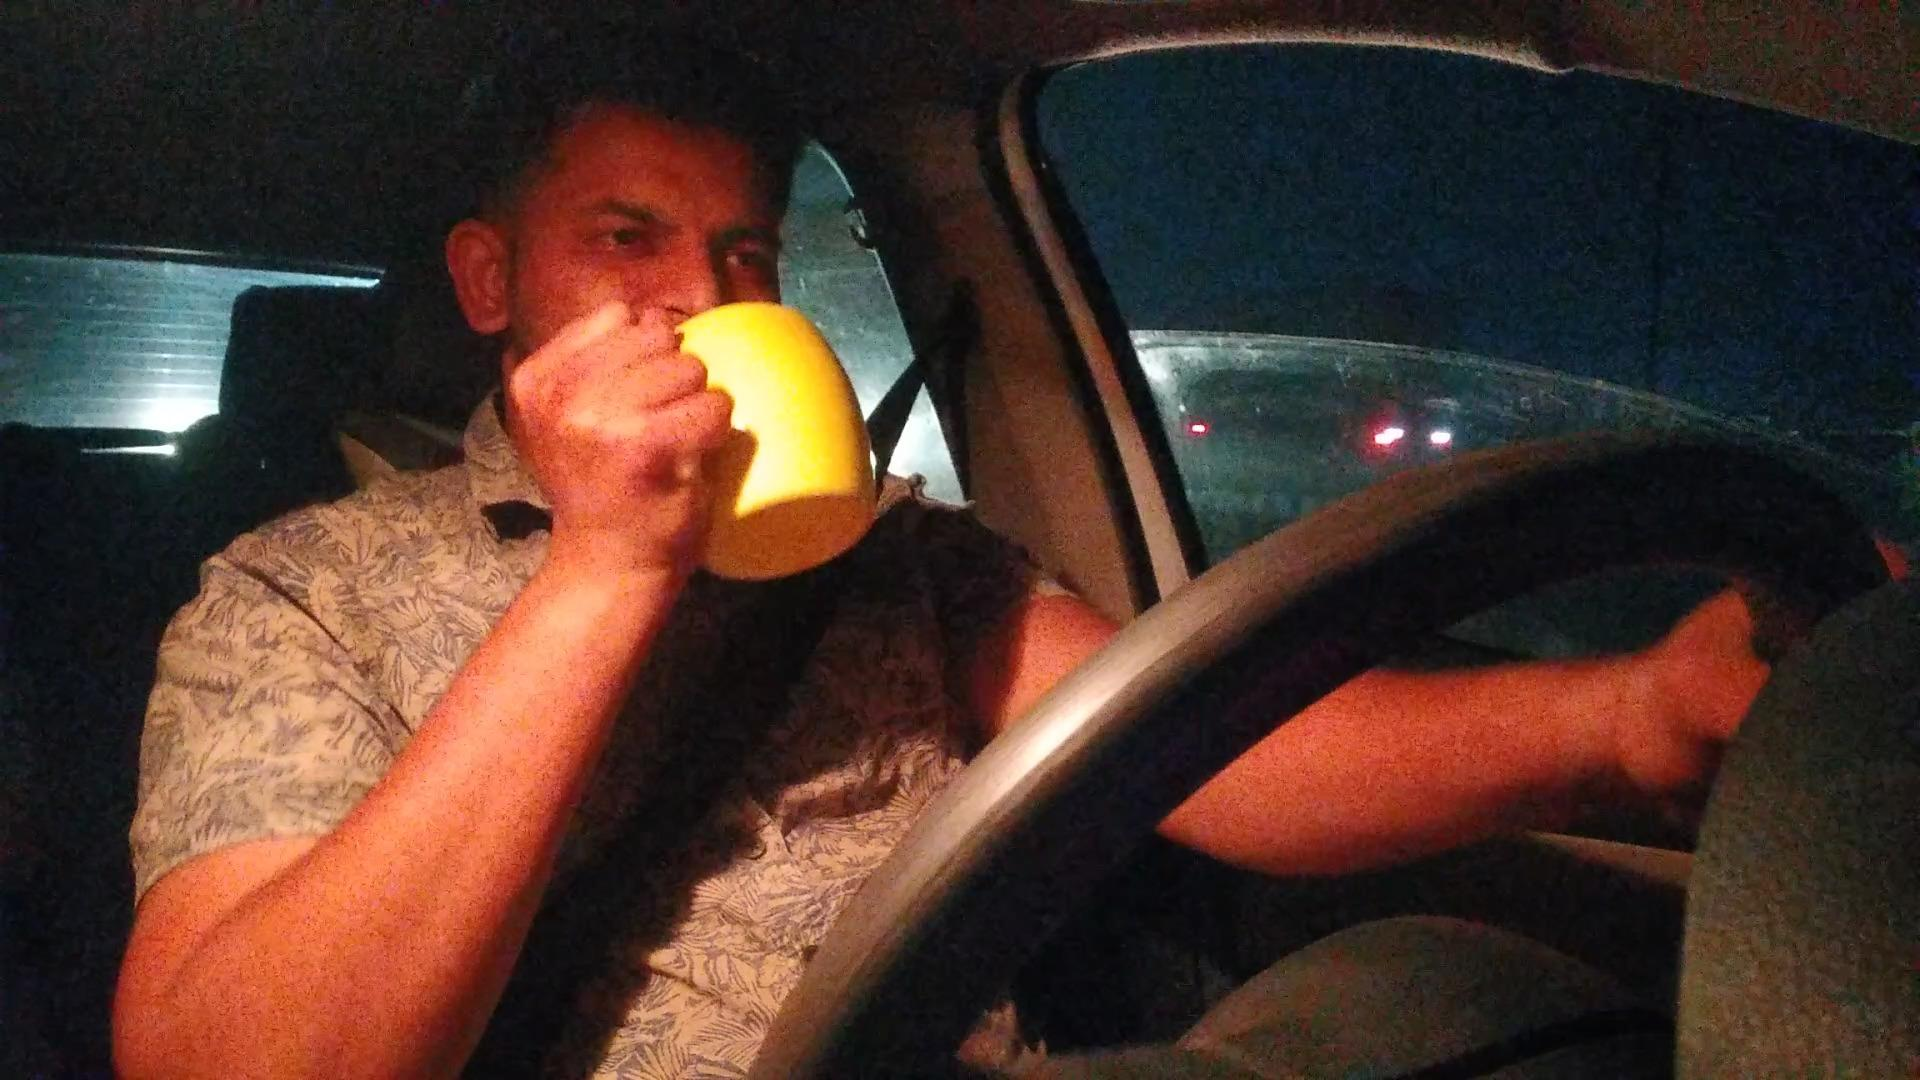Drinking: (444, 102, 870, 583)
